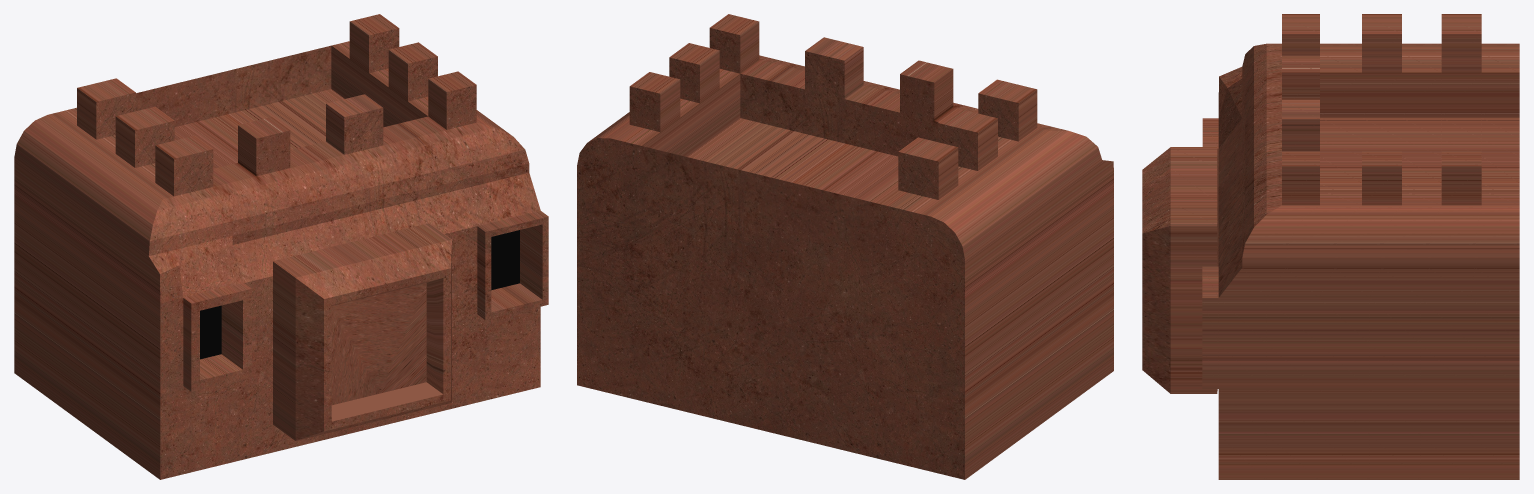
Rendered from CASTILLO.fbx.
3 renders of one model, left to right at view 1: azimuth 30°, elevation 25°; view 2: azimuth 150°, elevation 25°; view 3: azimuth 270°, elevation 25°, orthographic. The views are drawn at different scales.
Parts seen in each view (by area): view 1: CASTILLO; view 2: CASTILLO; view 3: CASTILLO.
Boxes of the visible parts, left/top/right/bottom form: CASTILLO: left=14, top=14, right=548, bottom=479; CASTILLO: left=577, top=14, right=1113, bottom=479; CASTILLO: left=1142, top=14, right=1519, bottom=479.
Bounding box in the file's own units: 3018 × 2182 × 2514.
